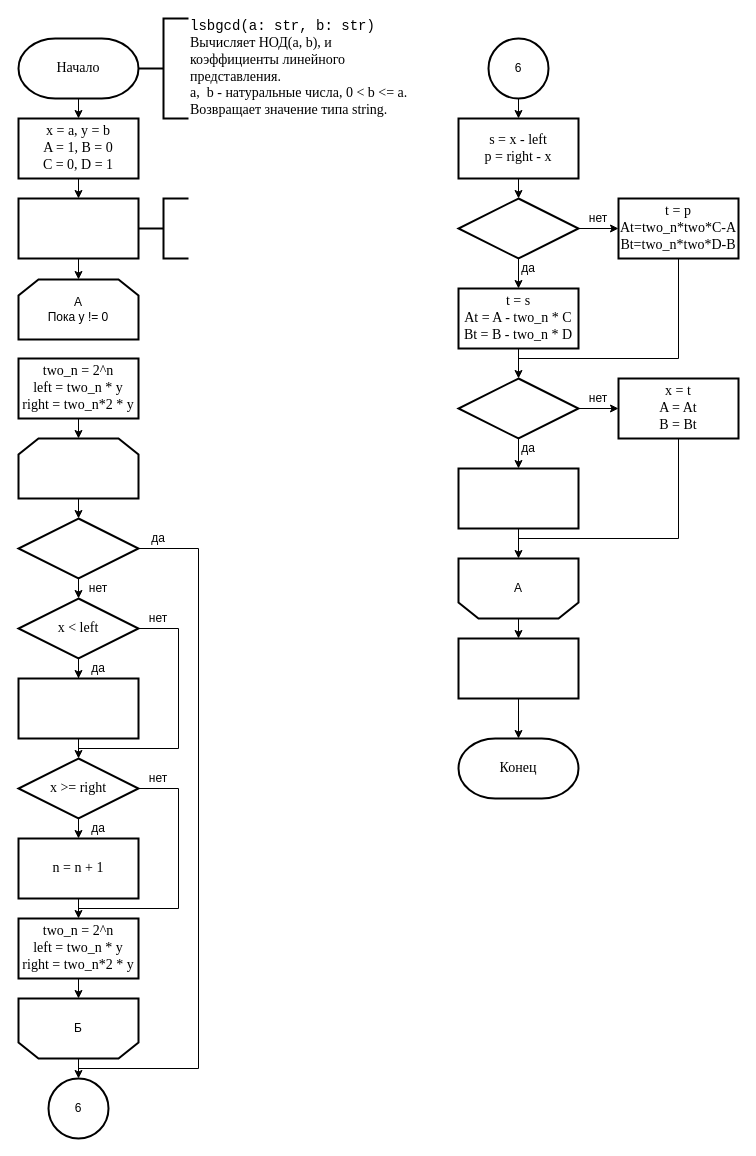
Image size: 756x1156. Some labels were removed from this diagram. Each missing label, with the box of its shape:
d = x u = A v = B: (457, 637, 579, 699)
if s <= p: (457, 197, 579, 259)
if t <= y: (457, 377, 579, 439)
left <= x и x < right: (17, 517, 139, 579)
len(y) - длина числа y , записанного в десятичной СС.: (137, 197, 189, 259)
n = n - 1: (17, 677, 139, 739)
n=log2(10)*len(y): (17, 197, 139, 259)
x = y y = t A,B,C,D=C,D,At,Bt: (457, 467, 579, 529)
Б Пока True: (17, 437, 139, 499)
